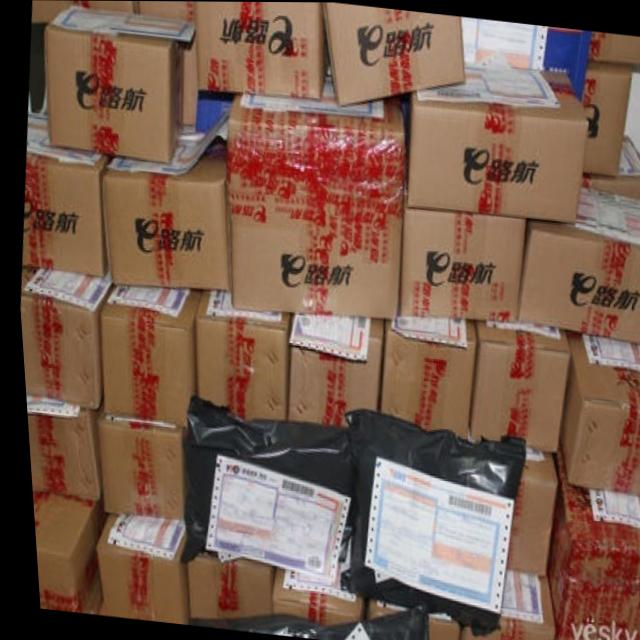box: (338, 403, 521, 631), (222, 92, 401, 321), (176, 392, 342, 592), (402, 66, 586, 220), (44, 3, 182, 164), (100, 125, 226, 289), (512, 184, 640, 345), (540, 441, 640, 640), (16, 247, 112, 411), (18, 112, 110, 275), (321, 2, 465, 106), (95, 285, 200, 425), (554, 330, 640, 496), (396, 207, 521, 321), (462, 318, 564, 454), (194, 1, 327, 98), (190, 289, 286, 418), (373, 314, 470, 440), (462, 16, 590, 104), (281, 315, 379, 425), (93, 396, 177, 518), (88, 516, 181, 621), (26, 490, 98, 613), (21, 396, 96, 501), (137, 1, 197, 126), (451, 565, 546, 640), (499, 445, 551, 576), (579, 62, 631, 177), (181, 552, 265, 617), (263, 567, 354, 622), (576, 134, 640, 201), (31, 0, 132, 23), (587, 30, 640, 64), (421, 612, 453, 640)
